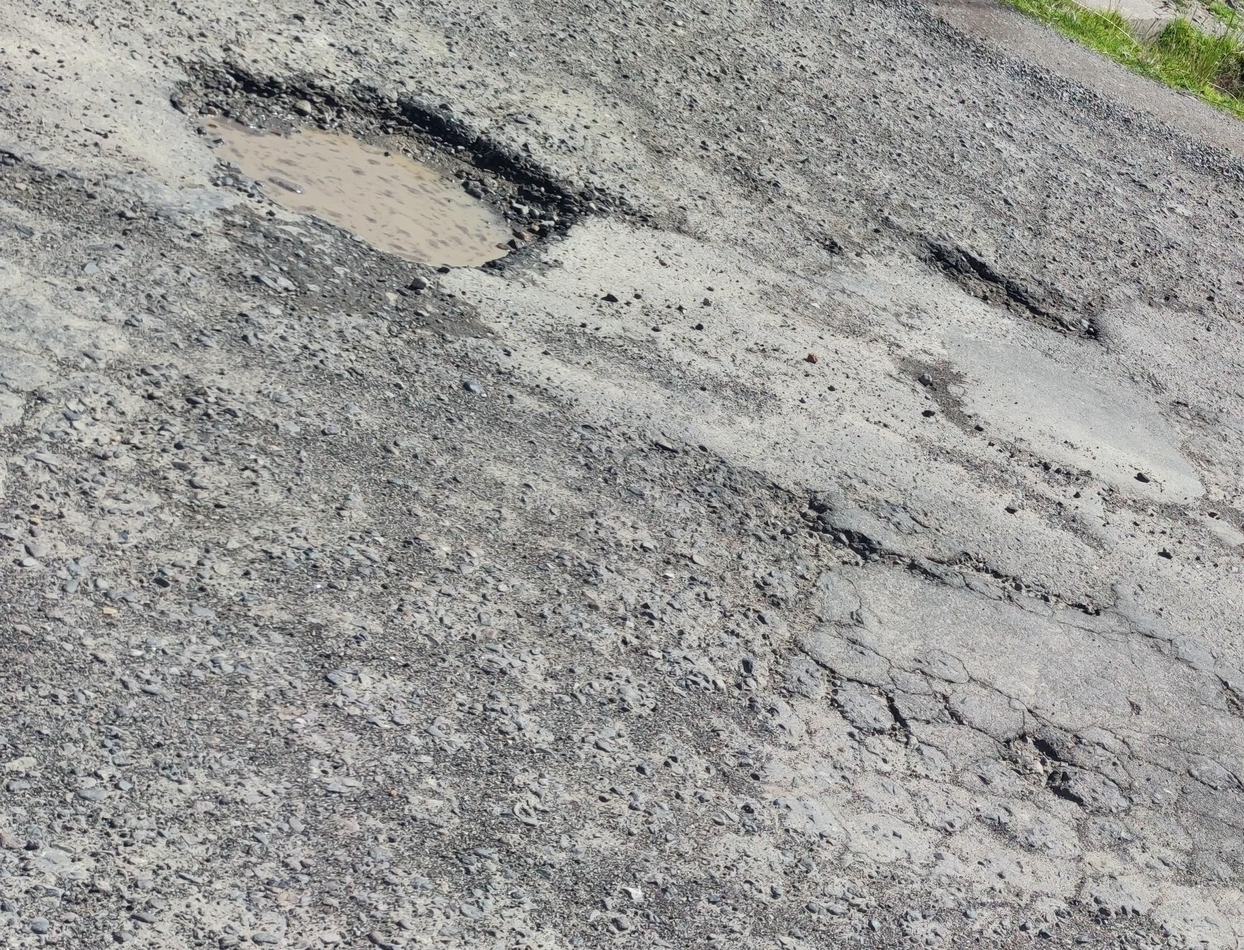BACHE: (176, 72, 564, 272)
GRIETA: (929, 248, 1103, 342), (924, 553, 1102, 615)
PARCHE: (964, 346, 1196, 479)
PIEL DE COCODRILO: (34, 400, 711, 907), (763, 568, 1244, 914)
